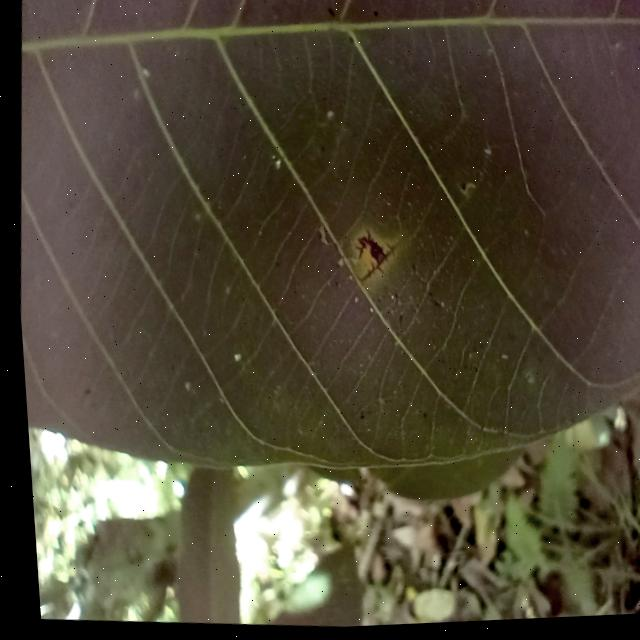Corynespora: (347, 228, 400, 289)
